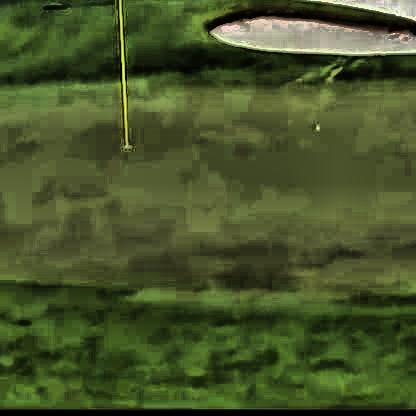golfball: (310, 120, 317, 130)
